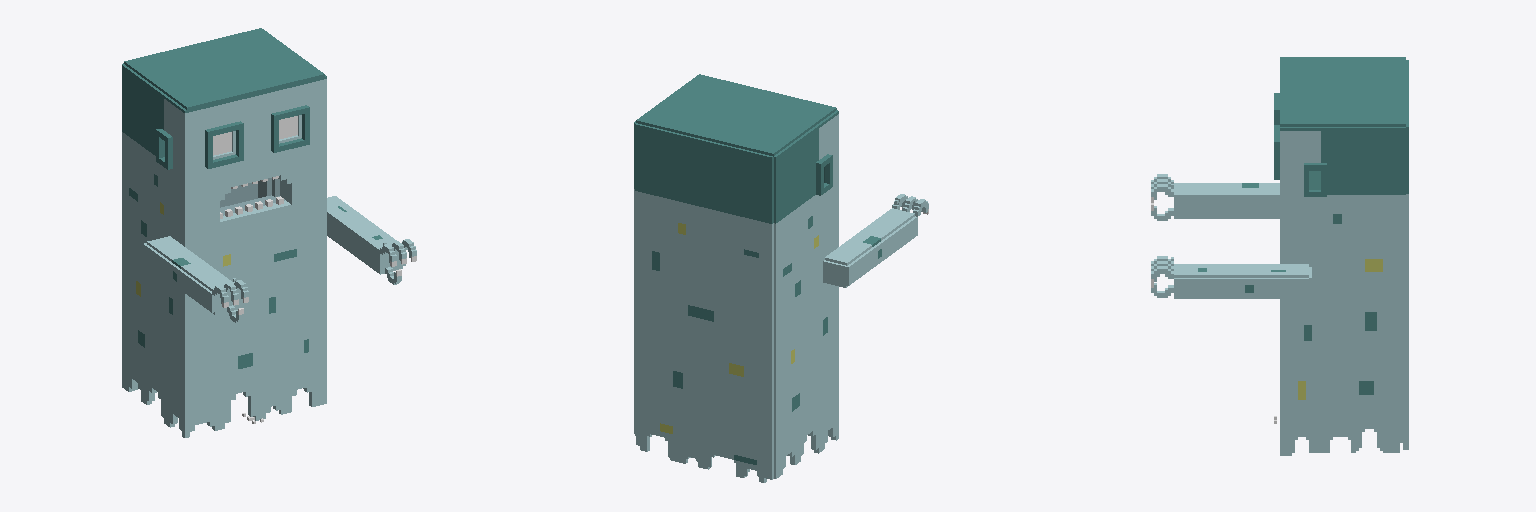
3 renders of one model, left to right at view 1: azimuth 30°, elevation 25°; view 2: azimuth 150°, elevation 25°; view 3: azimuth 270°, elevation 25°, orthographic.
Parts seen in each view (by area): view 1: object 1; view 2: object 1; view 3: object 1.
Boxes of the visible parts, <box> form: object 1: <box>122,28,416,437</box>; object 1: <box>634,74,928,482</box>; object 1: <box>1151,57,1408,455</box>.
Bounding box in the file's own units: 7.6 × 12.4 × 8.8.
Materials: 1 (1 with a texture image).